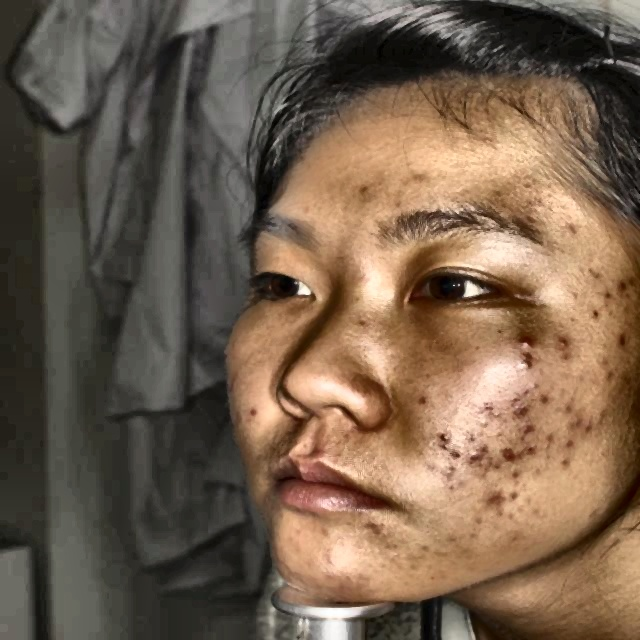papule: (557, 439, 585, 482), (563, 405, 585, 438), (506, 392, 536, 416), (546, 425, 577, 447), (462, 438, 494, 459), (586, 354, 614, 377), (503, 438, 522, 469), (319, 567, 344, 590), (532, 381, 554, 407), (439, 441, 462, 465), (554, 217, 582, 235), (512, 350, 541, 366), (517, 413, 538, 435), (489, 488, 511, 509), (554, 330, 577, 349), (478, 398, 502, 416), (618, 274, 637, 294), (319, 548, 344, 562), (483, 451, 498, 474), (591, 303, 609, 320), (250, 403, 265, 421), (517, 333, 536, 346), (438, 428, 452, 442), (614, 333, 629, 346)
